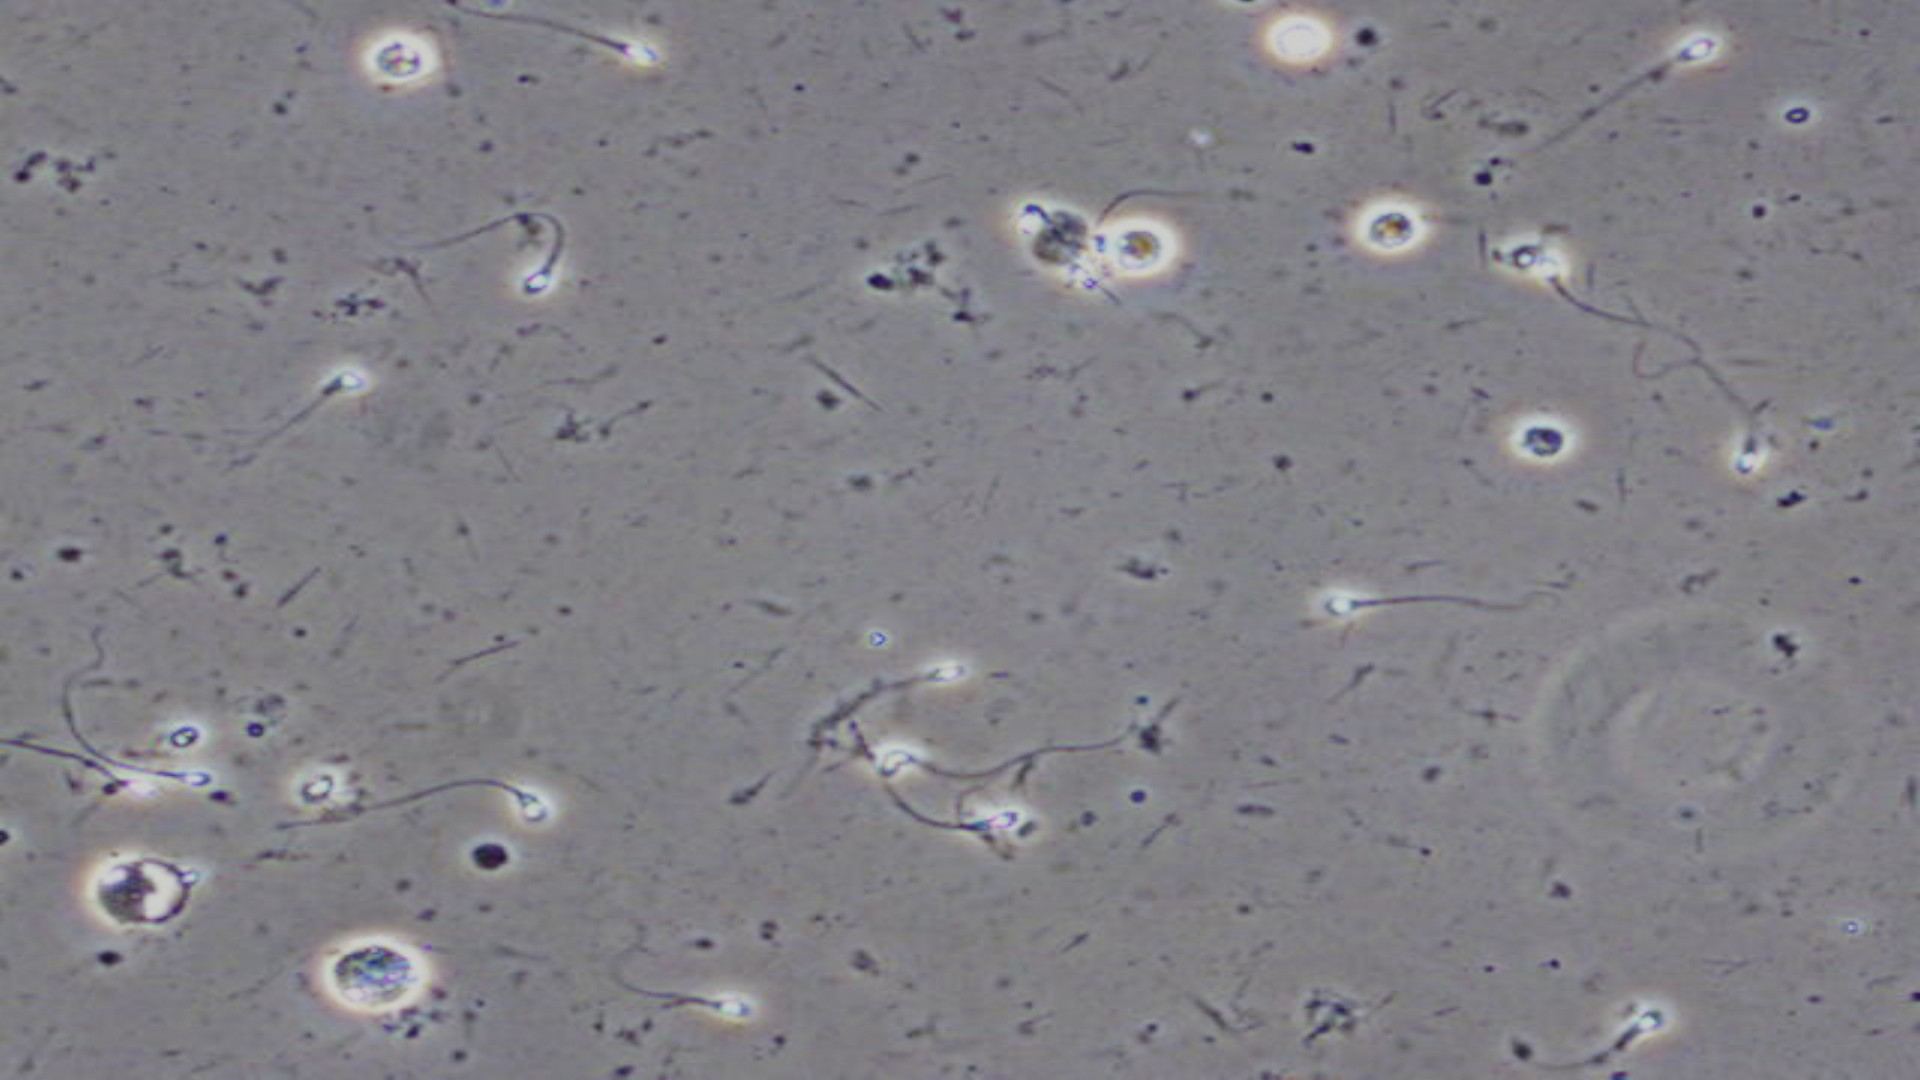sperm: (400, 228, 584, 307), (529, 3, 686, 94), (1538, 258, 1660, 349), (1307, 575, 1510, 629), (839, 651, 972, 729), (1600, 42, 1724, 125), (1567, 1002, 1696, 1079), (624, 957, 756, 1025), (1713, 342, 1774, 484), (857, 749, 1063, 779), (924, 791, 1035, 845), (456, 785, 562, 833), (310, 361, 378, 417), (135, 753, 214, 799)
